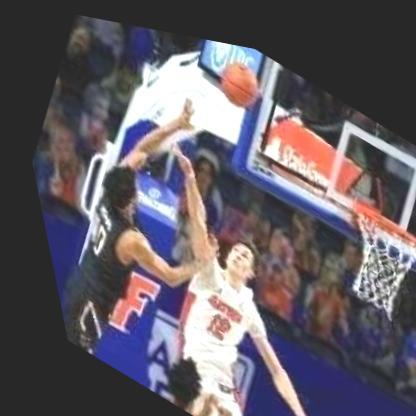basketball: (205, 39, 271, 111)
